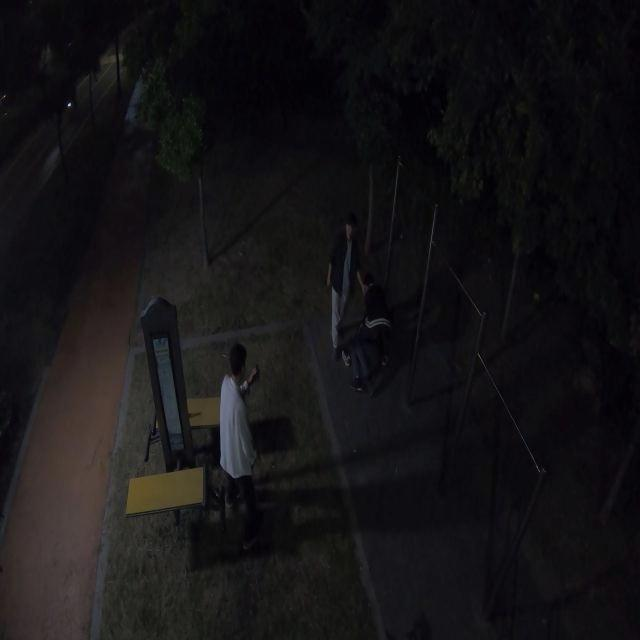fight: (319, 210, 394, 397)
non-fight: (199, 337, 266, 564)
